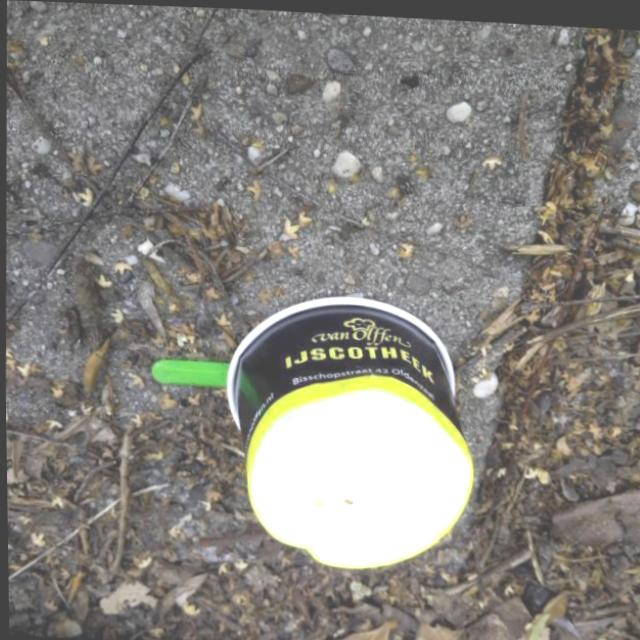Paper: (216, 284, 478, 572)
